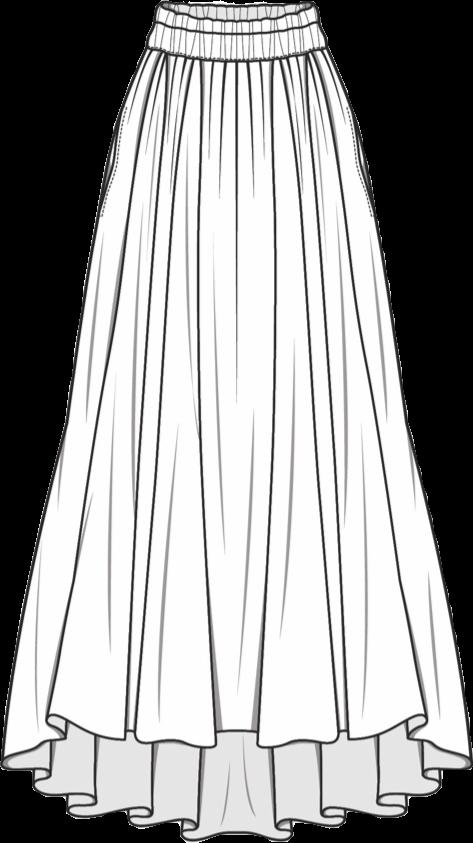Hemline: (0, 710, 472, 765)
Waistline: (140, 42, 327, 65), (154, 2, 316, 26)
